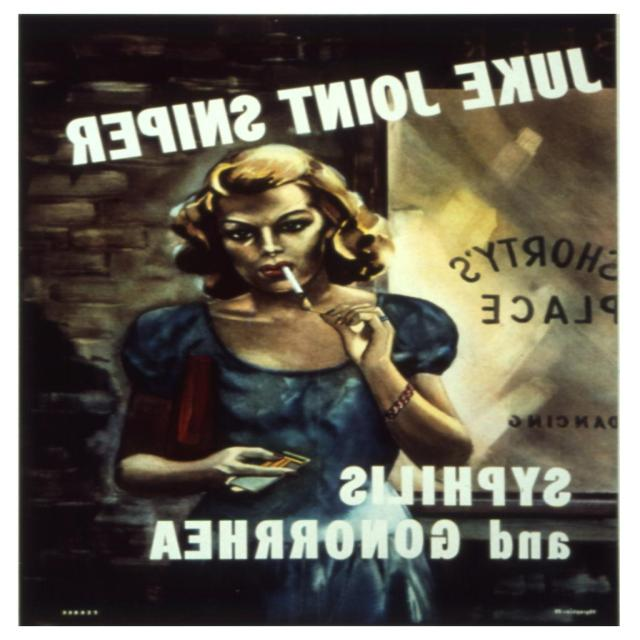smoking: (176, 143, 404, 376)
